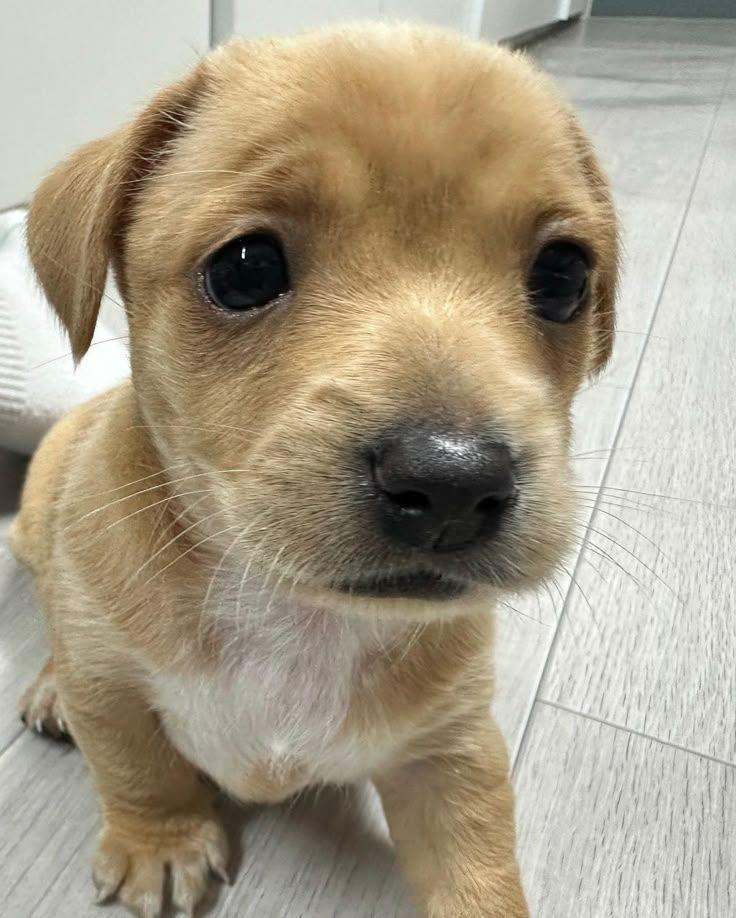puppy-dog: (8, 14, 627, 918)
